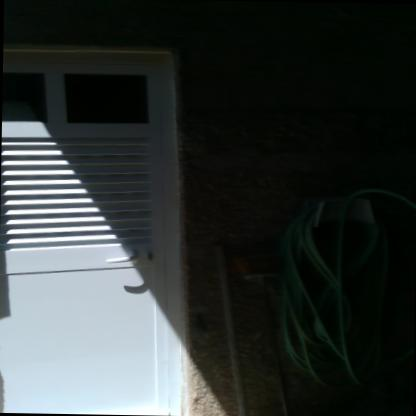closed: (0, 43, 195, 416)
